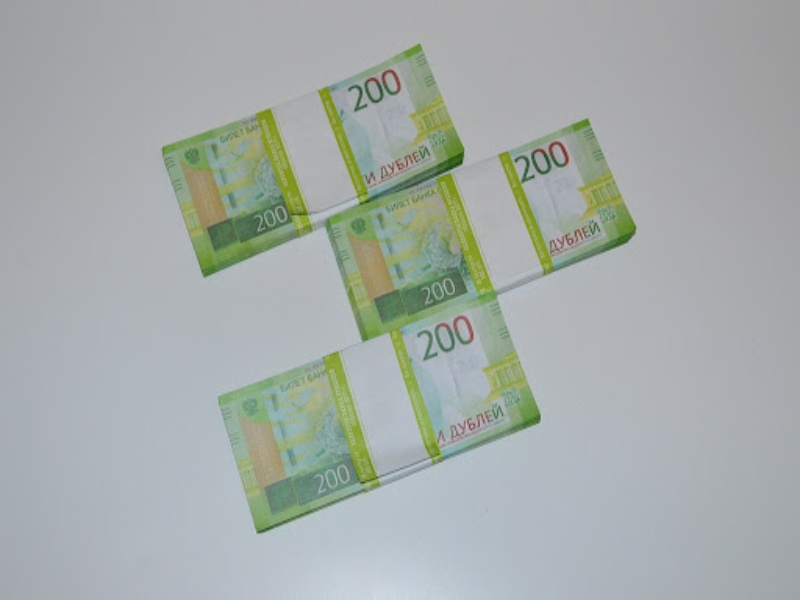cash: (217, 294, 543, 534), (161, 45, 465, 276), (325, 120, 638, 341)
